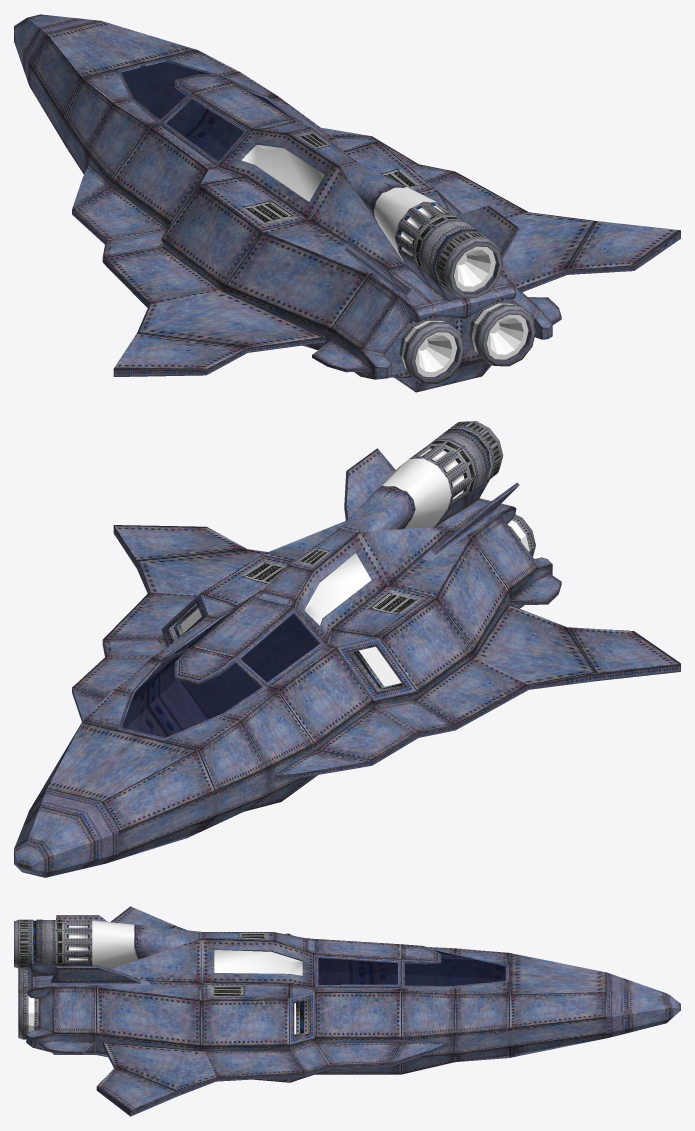
3 views of the same model, one above another, from view 1: azimuth 30°, elevation 25°; view 2: azimuth 150°, elevation 25°; view 3: azimuth 270°, elevation 25° (orthographic). The views are drawn at different scales.
Parts seen in each view (by area): view 1: CIV2_Cube.002_Cube.003; view 2: CIV2_Cube.002_Cube.003; view 3: CIV2_Cube.002_Cube.003.
Boxes of the visible parts, x1,y1,x2,y2 form: CIV2_Cube.002_Cube.003: [14, 14, 680, 392]; CIV2_Cube.002_Cube.003: [14, 421, 680, 877]; CIV2_Cube.002_Cube.003: [14, 906, 680, 1116].
Bounding box in the file's own units: 12.16 × 3.57 × 16.79.
6 materials, 3 textured.
